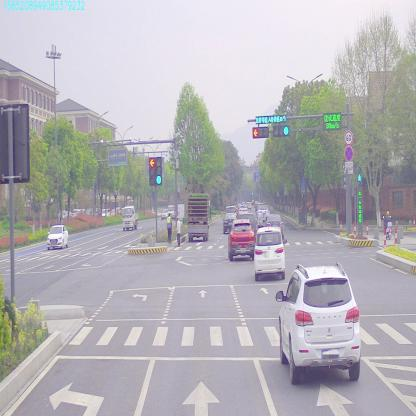traffic-light: (255, 115, 288, 124), (274, 126, 287, 138), (252, 128, 267, 137)
